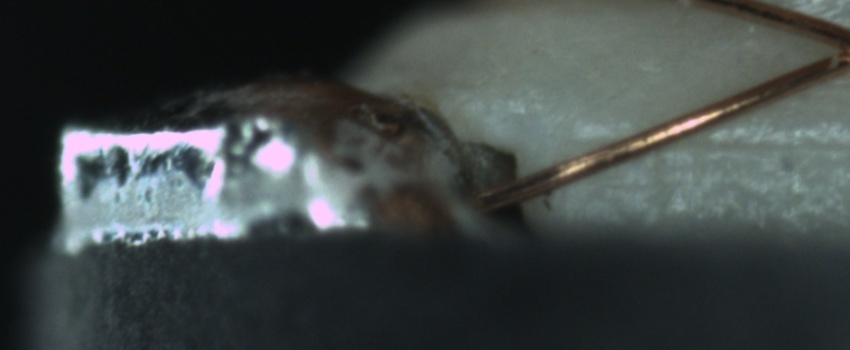CL: (802, 15, 850, 78)
DL: (609, 110, 848, 177)
